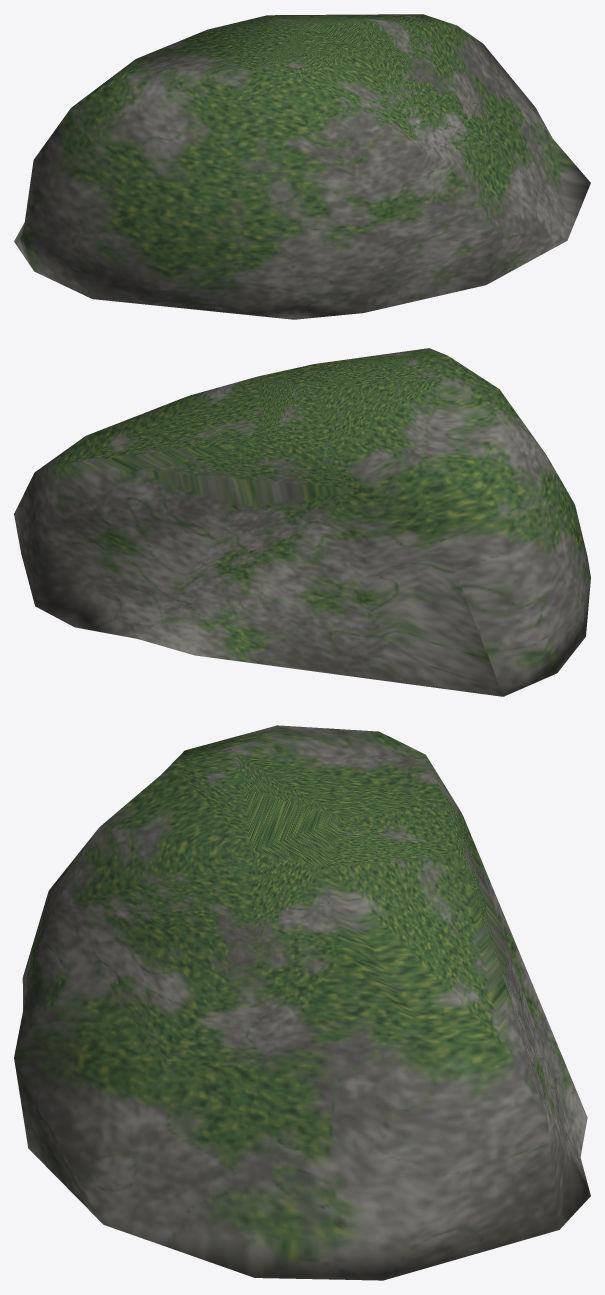
The model's file is rock_forest_mossy_a_lod2.glb.
3 views of the same model, one above another, from view 1: azimuth 30°, elevation 25°; view 2: azimuth 150°, elevation 25°; view 3: azimuth 270°, elevation 25° (orthographic). The views are drawn at different scales.
Parts seen in each view (by area): view 1: rock_forest_mossy_a; view 2: rock_forest_mossy_a; view 3: rock_forest_mossy_a.
Part boxes in pixels (box(x1,y1,x2,y2)): rock_forest_mossy_a: box(14, 14, 590, 319); rock_forest_mossy_a: box(14, 348, 590, 696); rock_forest_mossy_a: box(14, 725, 590, 1280).
Bounding box in the file's own units: 1.92 × 0.7306 × 1.32.
1 material, 1 textured.
